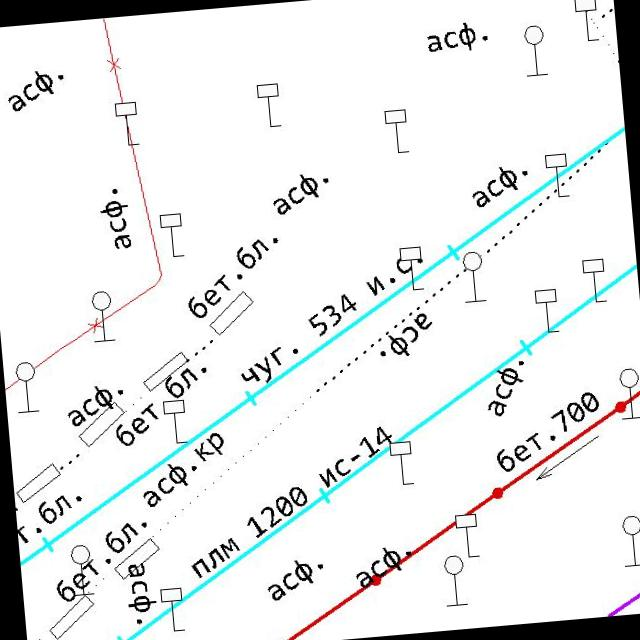asphalt: (374, 310, 437, 360), (137, 460, 200, 510), (263, 555, 327, 603), (4, 66, 68, 114), (63, 381, 127, 428), (468, 162, 532, 209), (352, 542, 414, 590), (481, 358, 530, 418), (270, 170, 330, 218), (122, 558, 160, 626), (96, 186, 134, 252), (424, 18, 490, 56)
sing: (520, 23, 550, 78), (12, 358, 40, 414), (156, 210, 187, 260), (460, 249, 488, 304), (441, 552, 468, 608), (382, 106, 412, 156), (160, 396, 190, 446), (89, 288, 116, 343), (68, 542, 95, 596), (254, 80, 283, 130), (396, 244, 426, 292), (112, 99, 141, 148), (453, 510, 481, 560), (570, 0, 602, 43), (158, 585, 186, 634), (543, 150, 570, 200), (532, 286, 560, 334), (580, 256, 608, 304), (388, 439, 416, 487), (617, 365, 640, 420), (619, 512, 640, 568)
